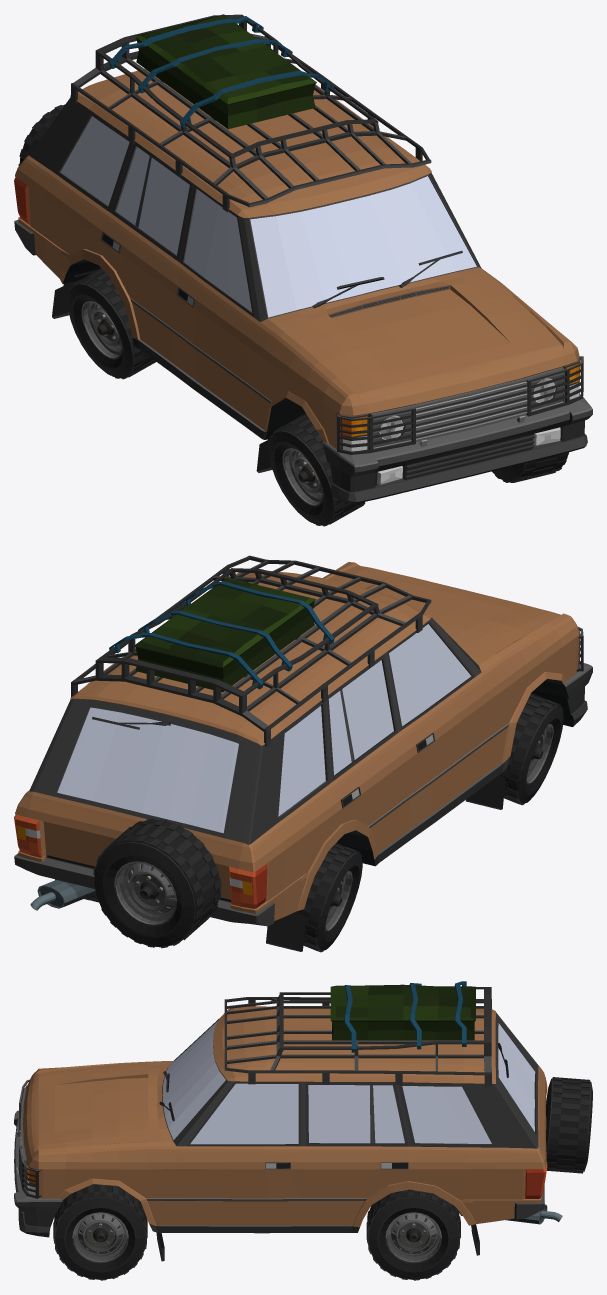
File: range-rover-classic.glb
3 views of the same model, one above another, from view 1: azimuth 30°, elevation 25°; view 2: azimuth 150°, elevation 25°; view 3: azimuth 270°, elevation 25° (orthographic). The views are drawn at different scales.
Visible parts, largest first — view 1: Car.002, Bag, Car, CG_wheel_2, CG_wheel_3, Car.003, Car.001, CG_wheel_0, Spare Tire; view 2: Car.002, Bag, Car, Spare Tire, CG_wheel_2, CG_wheel_3, Car.010, Car.012, Car.011; view 3: Car.002, Bag, Car, CG_wheel_0, CG_wheel_1, Spare Tire, Car.001, Car.010.
Part boxes in pixels (x1,y1,x2,y2): Car.002: (14, 68, 592, 503); Bag: (109, 14, 334, 129); Car: (71, 14, 431, 212); CG_wheel_2: (268, 413, 365, 526); CG_wheel_3: (67, 268, 156, 379); Car.003: (337, 407, 415, 454); Car.001: (526, 356, 583, 416); CG_wheel_0: (492, 452, 568, 482); Spare Tire: (18, 104, 64, 165); Car.002: (14, 562, 592, 926); Bag: (109, 577, 334, 692); Car: (71, 555, 431, 746); Spare Tire: (93, 818, 221, 948); CG_wheel_2: (500, 693, 563, 805); CG_wheel_3: (298, 843, 362, 952); Car.010: (30, 879, 95, 910); Car.012: (266, 911, 305, 951); Car.011: (465, 775, 505, 809); Car.002: (14, 1006, 547, 1237); Bag: (330, 981, 475, 1052); Car: (224, 987, 491, 1086); CG_wheel_0: (53, 1184, 147, 1280); CG_wheel_1: (366, 1189, 460, 1280); Spare Tire: (546, 1077, 592, 1173); Car.001: (19, 1145, 41, 1198); Car.010: (505, 1204, 562, 1224).
Bounding box in the file's own units: 1.77 × 2 × 4.45.
3 materials, 1 textured.
